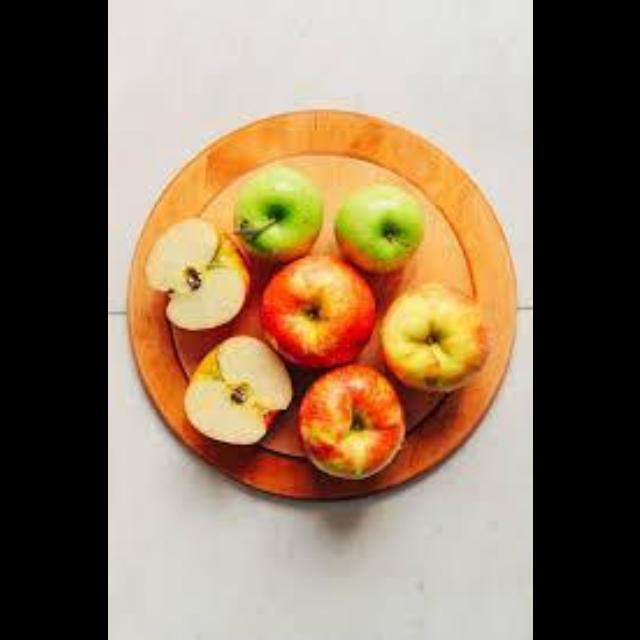apple: (258, 256, 372, 368), (298, 363, 403, 477), (144, 216, 247, 328), (379, 284, 486, 391), (184, 335, 291, 442), (233, 165, 321, 261), (333, 184, 424, 272)
